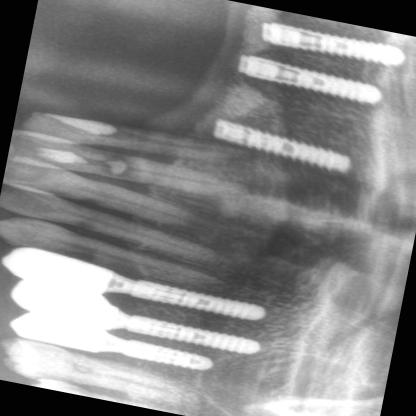ITI: (220, 44, 392, 112), (197, 111, 365, 176), (116, 264, 272, 328), (249, 12, 408, 72), (122, 306, 269, 362), (119, 334, 230, 378)
